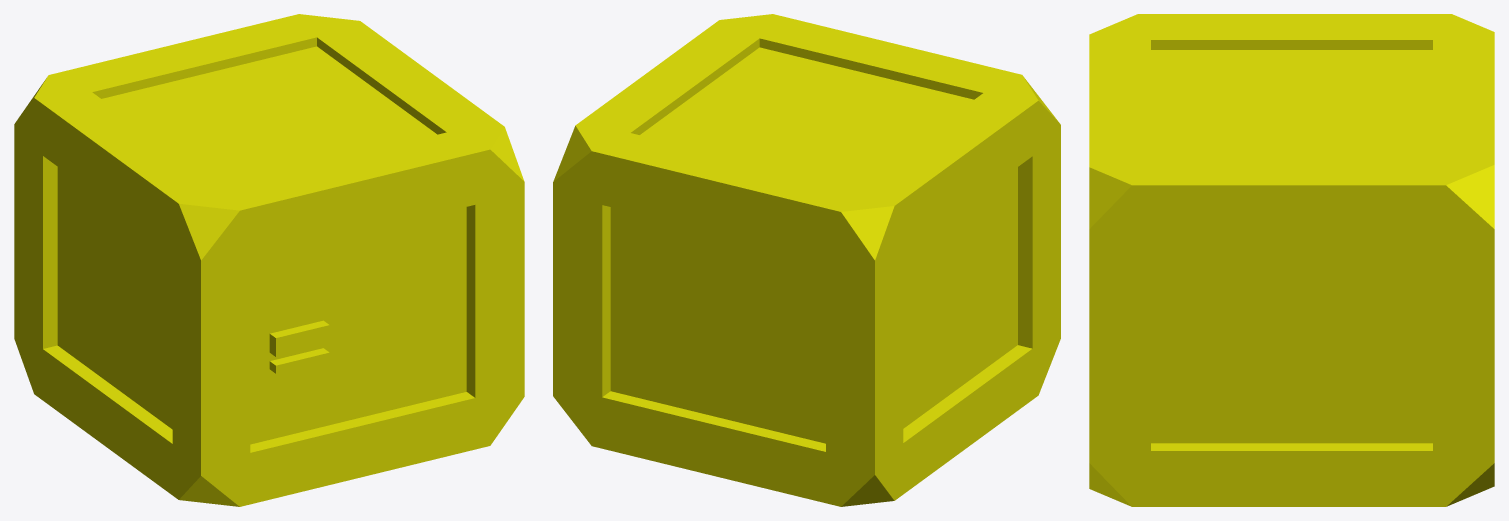
The picture shows the model from 3 angles, left to right: view 1: azimuth 30°, elevation 25°; view 2: azimuth 150°, elevation 25°; view 3: azimuth 270°, elevation 25°; orthographic projection. The views are drawn at different scales.
Visible parts, largest first — view 1: ban; view 2: ban; view 3: ban.
Boxes of the visible parts, bbox=[...] form: ban: bbox=[14, 14, 524, 506]; ban: bbox=[553, 14, 1060, 506]; ban: bbox=[1089, 14, 1494, 506].
Bounding box in the file's own units: 2 × 1.75 × 2.
Materials: 1 (1 with a texture image).
